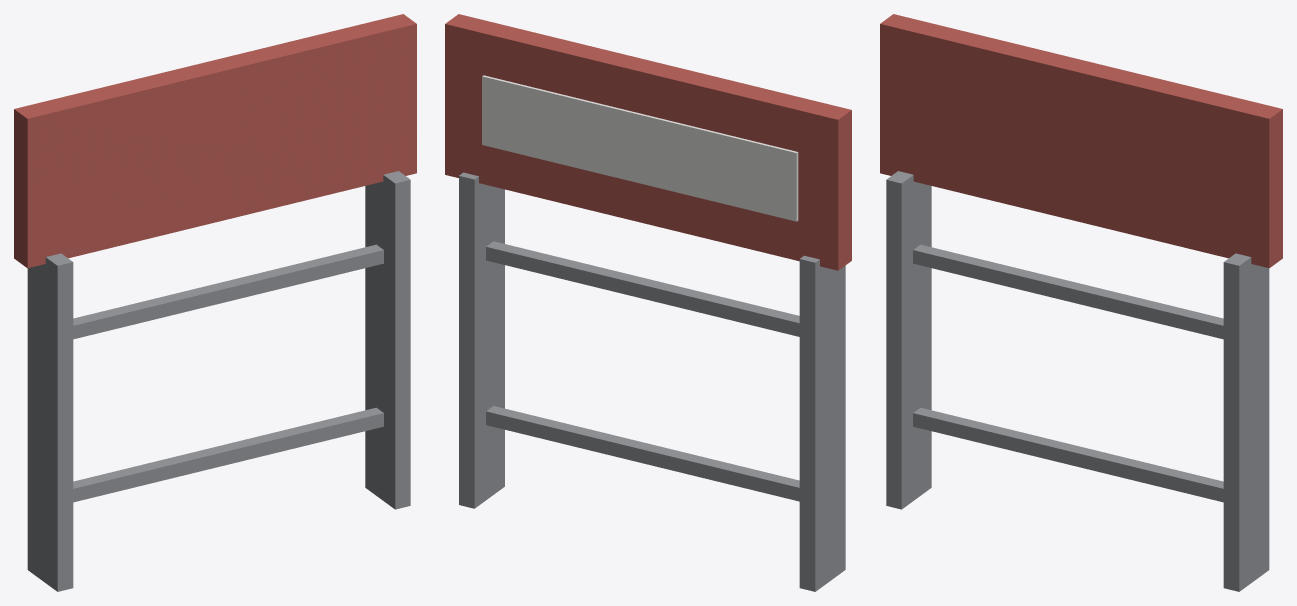
The model's file is prop_rooftop_red.glb.
3 views of the same model, side by side, from view 1: azimuth 30°, elevation 25°; view 2: azimuth 150°, elevation 25°; view 3: azimuth 330°, elevation 25° (orthographic).
Parts seen in each view (by area): view 1: rooftop_red; view 2: rooftop_red; view 3: rooftop_red.
Part boxes in pixels (box(x1,y1,x2,y2)): rooftop_red: box(14, 14, 416, 591); rooftop_red: box(445, 14, 851, 591); rooftop_red: box(880, 14, 1282, 591).
Size of the model in its own units: 3 by 3.45 by 0.4.
